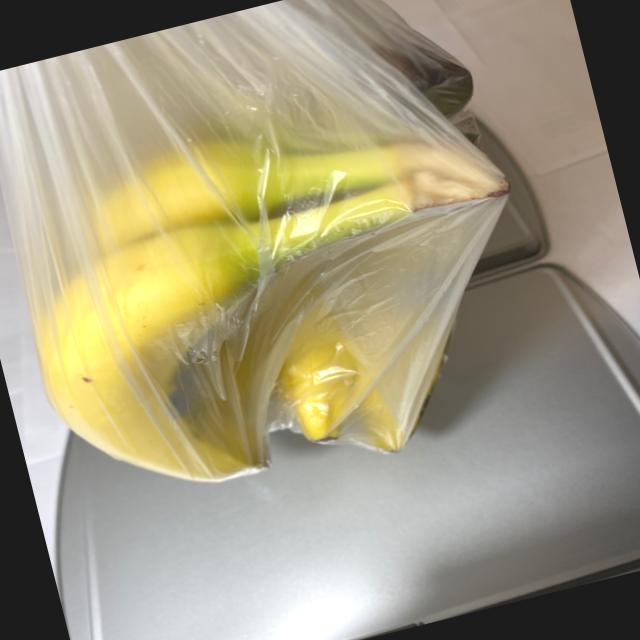banana: (0, 26, 572, 537)
